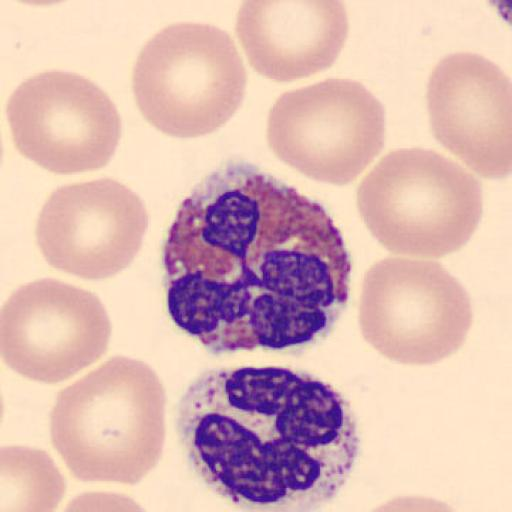Platelet: (175, 364, 365, 509)
RBC: (49, 354, 167, 488), (355, 144, 484, 259), (129, 19, 249, 142), (265, 76, 388, 188), (356, 254, 476, 368), (4, 66, 124, 178), (33, 175, 152, 283), (1, 274, 114, 386), (424, 50, 512, 181), (234, 0, 351, 85), (2, 441, 68, 512), (346, 491, 483, 512), (50, 489, 159, 511), (2, 0, 86, 7)
WBC: (161, 161, 352, 355)
